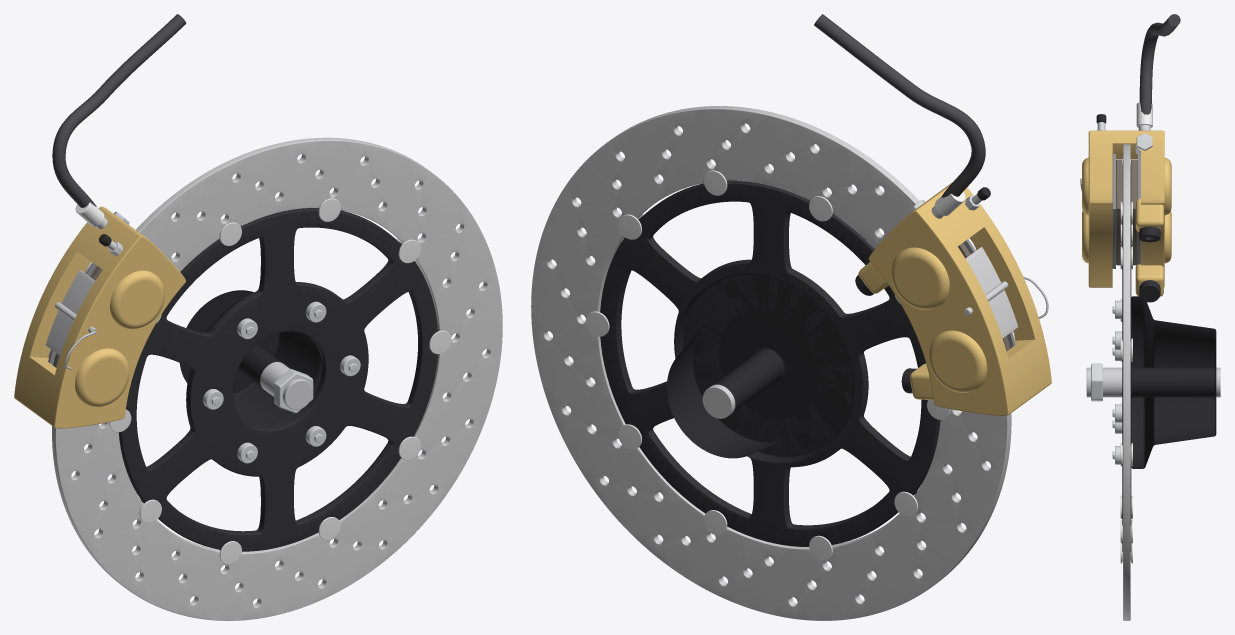
Rendered from brake.glb.
The picture shows the model from 3 angles, left to right: view 1: azimuth 30°, elevation 25°; view 2: azimuth 150°, elevation 25°; view 3: azimuth 270°, elevation 25°; orthographic projection. The views are drawn at different scales.
Visible parts, largest first — view 1: brake__disc, brake__carrier, brake__caliper, brake__hub, brake__float_buttons, brake__hose, brake__disc_bolts, brake__antirattle_spring, brake__axle, brake__axle_nut; view 2: brake__disc, brake__carrier, brake__caliper, brake__hub, brake__float_buttons, brake__hose, brake__antirattle_spring, brake__caliper_lugs, brake__axle; view 3: brake__hub, brake__caliper, brake__disc, brake__hose, brake__caliper_lugs, brake__pads, brake__float_buttons, brake__axle, brake__disc_bolts, brake__carrier, brake__pad_backing, brake__mount_bolts (+3 smaller).
Part boxes in pixels (x1,y1,x2,y2): brake__disc: [52, 137, 502, 620]; brake__carrier: [118, 208, 437, 551]; brake__caliper: [14, 206, 185, 428]; brake__hub: [179, 290, 321, 427]; brake__float_buttons: [109, 198, 451, 564]; brake__hose: [52, 14, 186, 207]; brake__disc_bolts: [203, 301, 360, 463]; brake__antirattle_spring: [46, 270, 94, 355]; brake__axle: [260, 362, 312, 409]; brake__axle_nut: [274, 369, 313, 413]; brake__disc: [531, 106, 1011, 620]; brake__carrier: [600, 180, 940, 546]; brake__caliper: [868, 182, 1051, 415]; brake__hub: [667, 273, 854, 463]; brake__float_buttons: [585, 170, 950, 560]; brake__hose: [814, 14, 985, 197]; brake__antirattle_spring: [965, 247, 1017, 338]; brake__caliper_lugs: [858, 262, 933, 400]; brake__axle: [702, 384, 735, 418]; brake__hub: [1131, 296, 1216, 468]; brake__caliper: [1082, 130, 1171, 287]; brake__disc: [1123, 144, 1130, 620]; brake__hose: [1139, 14, 1180, 114]; brake__caliper_lugs: [1135, 198, 1163, 296]; brake__pads: [1116, 159, 1137, 265]; brake__float_buttons: [1120, 201, 1132, 563]; brake__axle: [1086, 367, 1220, 397]; brake__disc_bolts: [1112, 300, 1122, 464]; brake__carrier: [1122, 215, 1131, 551]; brake__pad_backing: [1112, 154, 1140, 268]; brake__mount_bolts: [1139, 226, 1160, 302].
Size of the model in its own units: 33.4 by 40.86 by 9.42.
